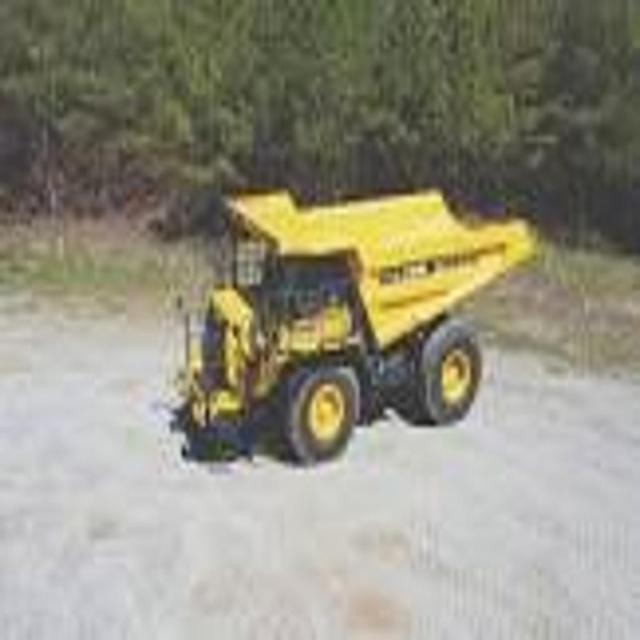dump_truck: (168, 170, 542, 472)
